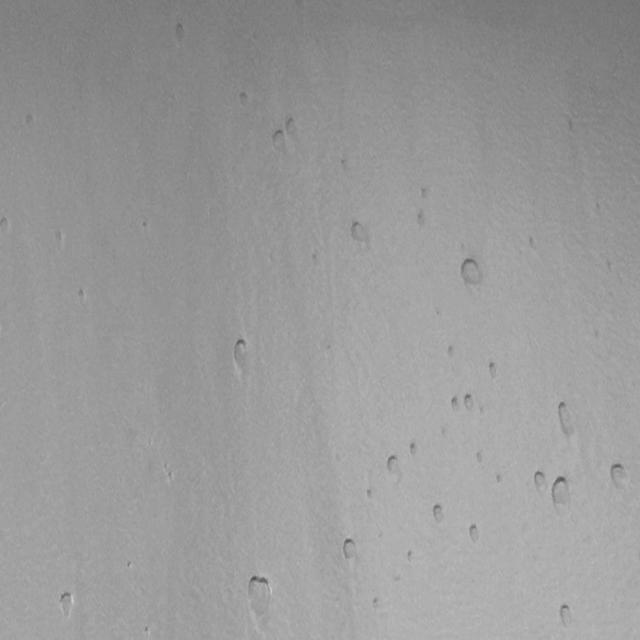pin holes: (239, 571, 278, 630), (552, 400, 578, 437), (457, 256, 485, 290), (549, 475, 574, 512), (229, 336, 252, 375), (608, 459, 632, 492), (54, 590, 78, 622), (348, 218, 373, 246), (268, 129, 292, 156), (340, 536, 361, 564), (556, 602, 578, 628), (170, 20, 190, 48), (532, 471, 550, 499), (428, 501, 447, 526), (307, 247, 324, 273), (386, 454, 404, 478), (50, 228, 68, 252), (72, 284, 90, 308), (160, 462, 178, 486), (463, 390, 479, 416), (465, 524, 483, 547), (233, 337, 249, 362), (236, 89, 254, 110), (337, 155, 354, 177), (414, 210, 429, 234), (485, 360, 501, 382), (0, 214, 14, 239), (284, 115, 300, 136), (448, 394, 463, 416), (407, 440, 423, 460), (417, 186, 433, 204), (24, 113, 38, 133), (473, 448, 488, 466), (370, 593, 385, 610), (138, 218, 150, 236), (495, 472, 509, 487), (445, 343, 458, 359), (140, 624, 153, 639), (405, 548, 417, 564), (366, 487, 377, 501), (606, 259, 614, 274), (530, 236, 536, 252), (126, 558, 132, 571)
